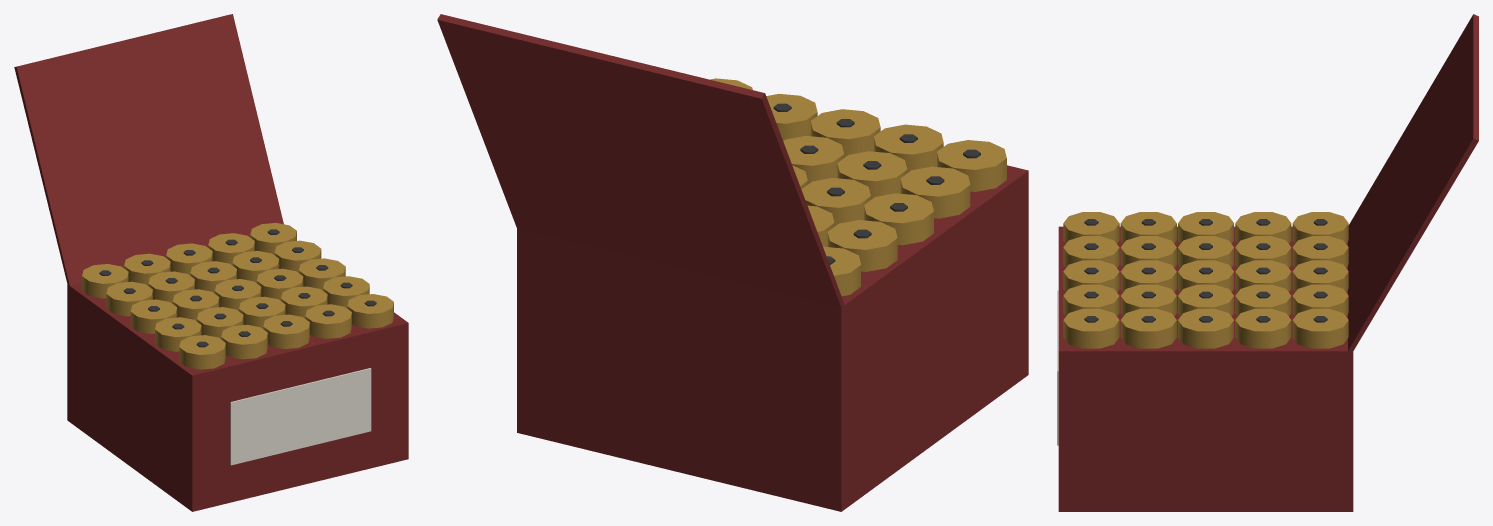
File: shells.glb
The picture shows the model from 3 angles, left to right: view 1: azimuth 30°, elevation 25°; view 2: azimuth 150°, elevation 25°; view 3: azimuth 270°, elevation 25°; orthographic projection. The views are drawn at different scales.
Parts seen in each view (by area): view 1: shells; view 2: shells; view 3: shells.
Part boxes in pixels (x1,y1,x2,y2): shells: [14, 14, 408, 511]; shells: [437, 14, 1028, 511]; shells: [1057, 14, 1478, 511].
Size of the model in its own units: 0.108 by 0.151 by 0.1546.
Materials: 1 (1 with a texture image).
